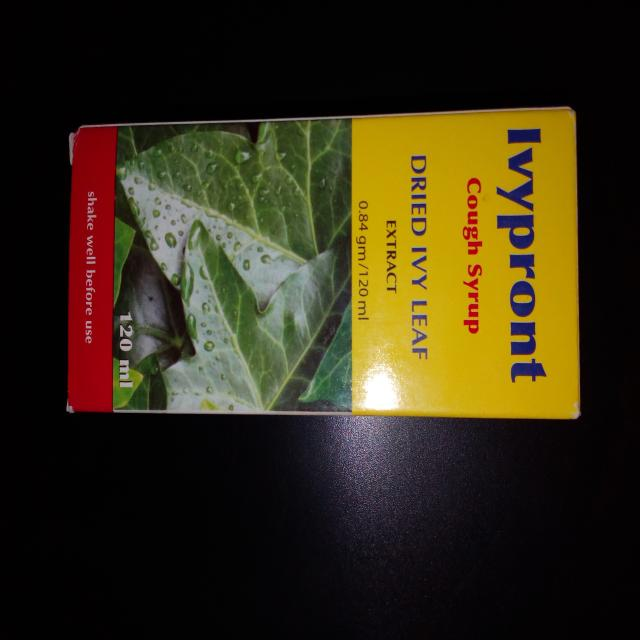Medicine: (60, 98, 588, 430)
